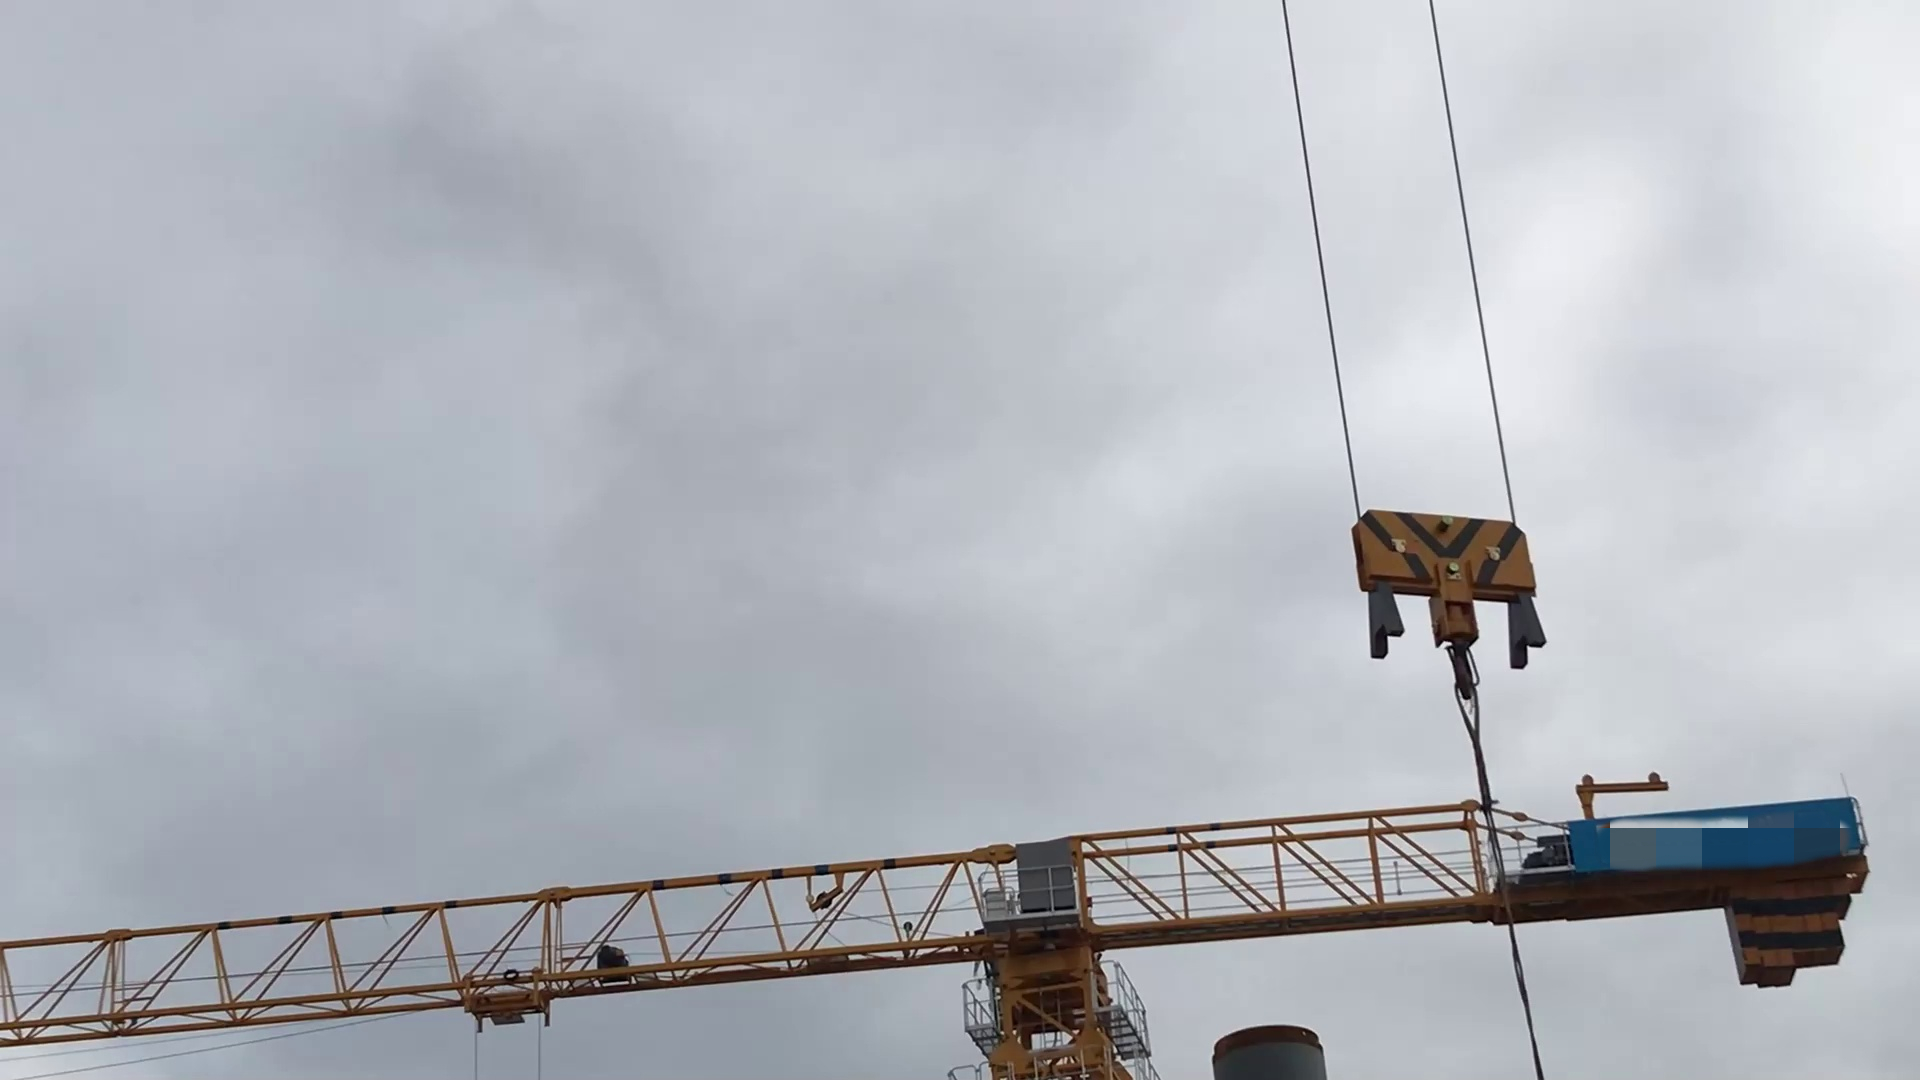hook: (1337, 495, 1563, 709)
